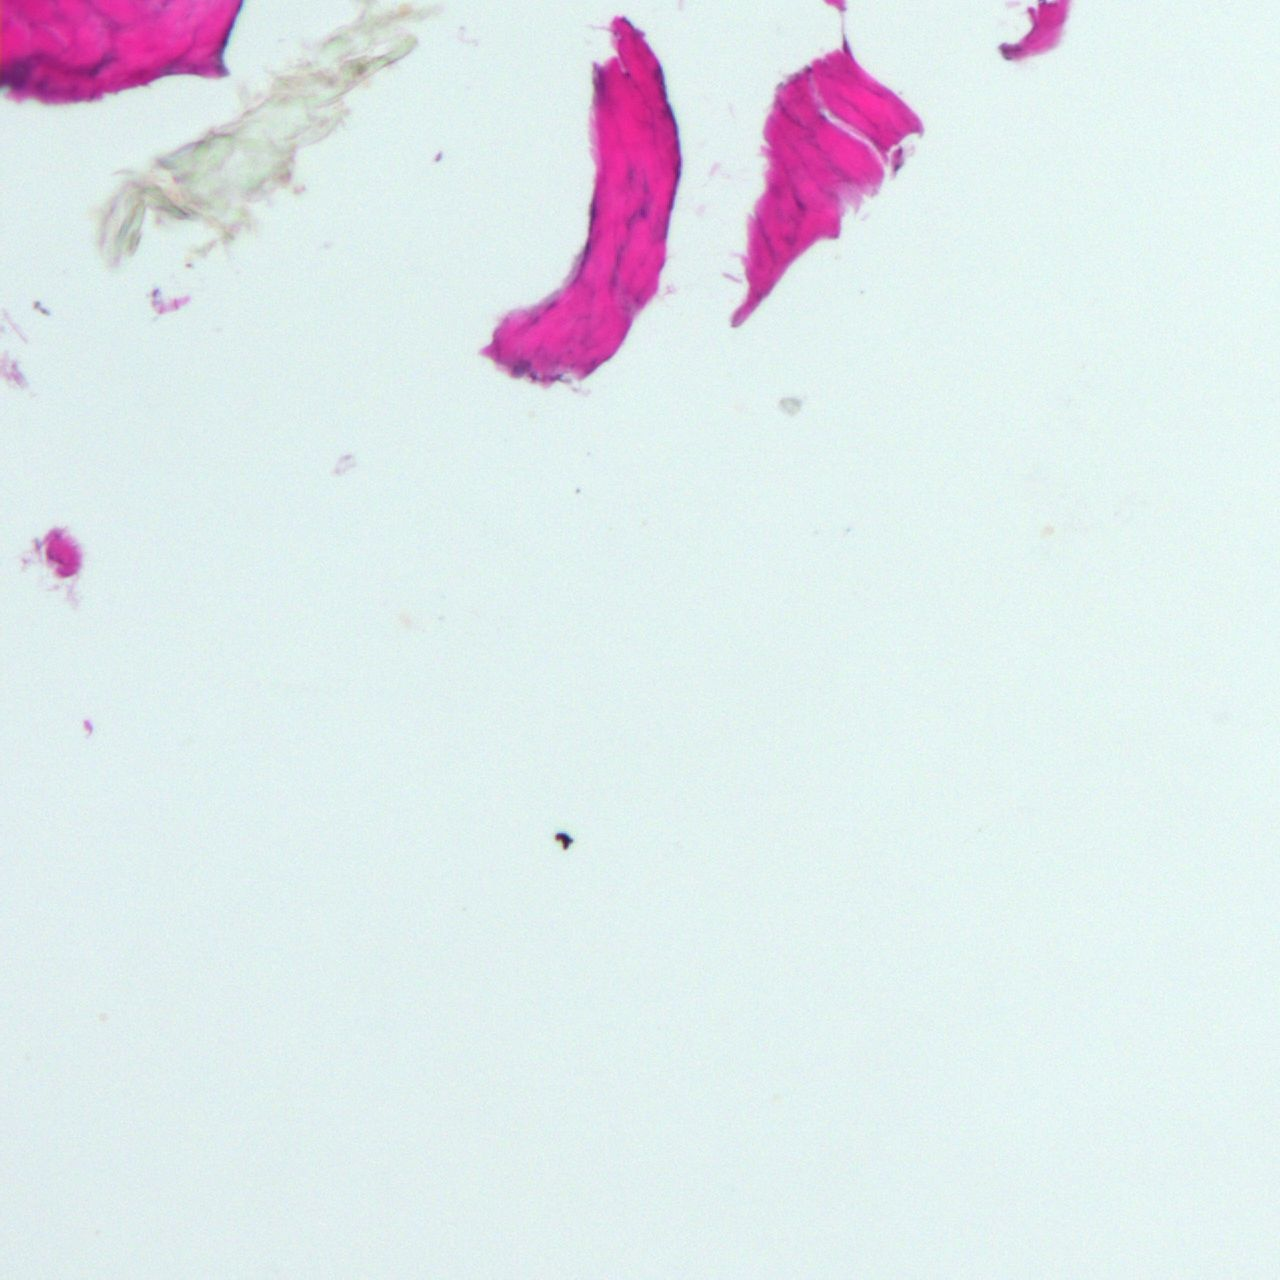dust: (777, 395, 801, 413), (553, 832, 574, 850)
